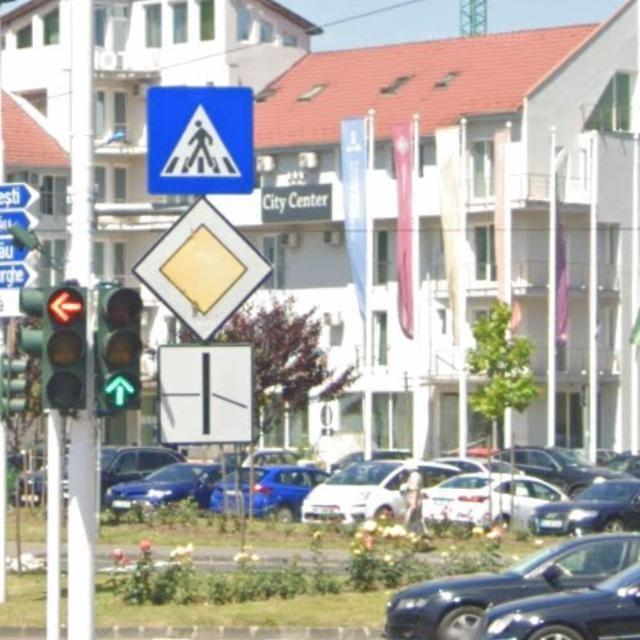info_crosswalk: (145, 83, 255, 192)
